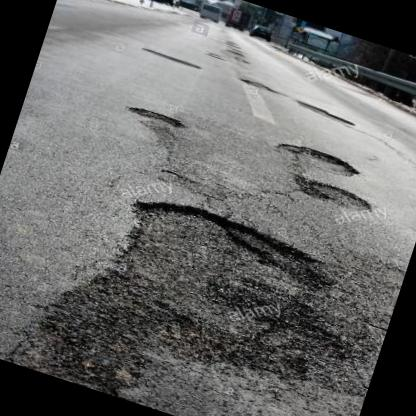pothole: (85, 184, 382, 410), (286, 170, 377, 218), (271, 134, 364, 180), (286, 96, 358, 128), (139, 43, 204, 70), (124, 102, 186, 130), (234, 73, 284, 97), (232, 53, 251, 66)
